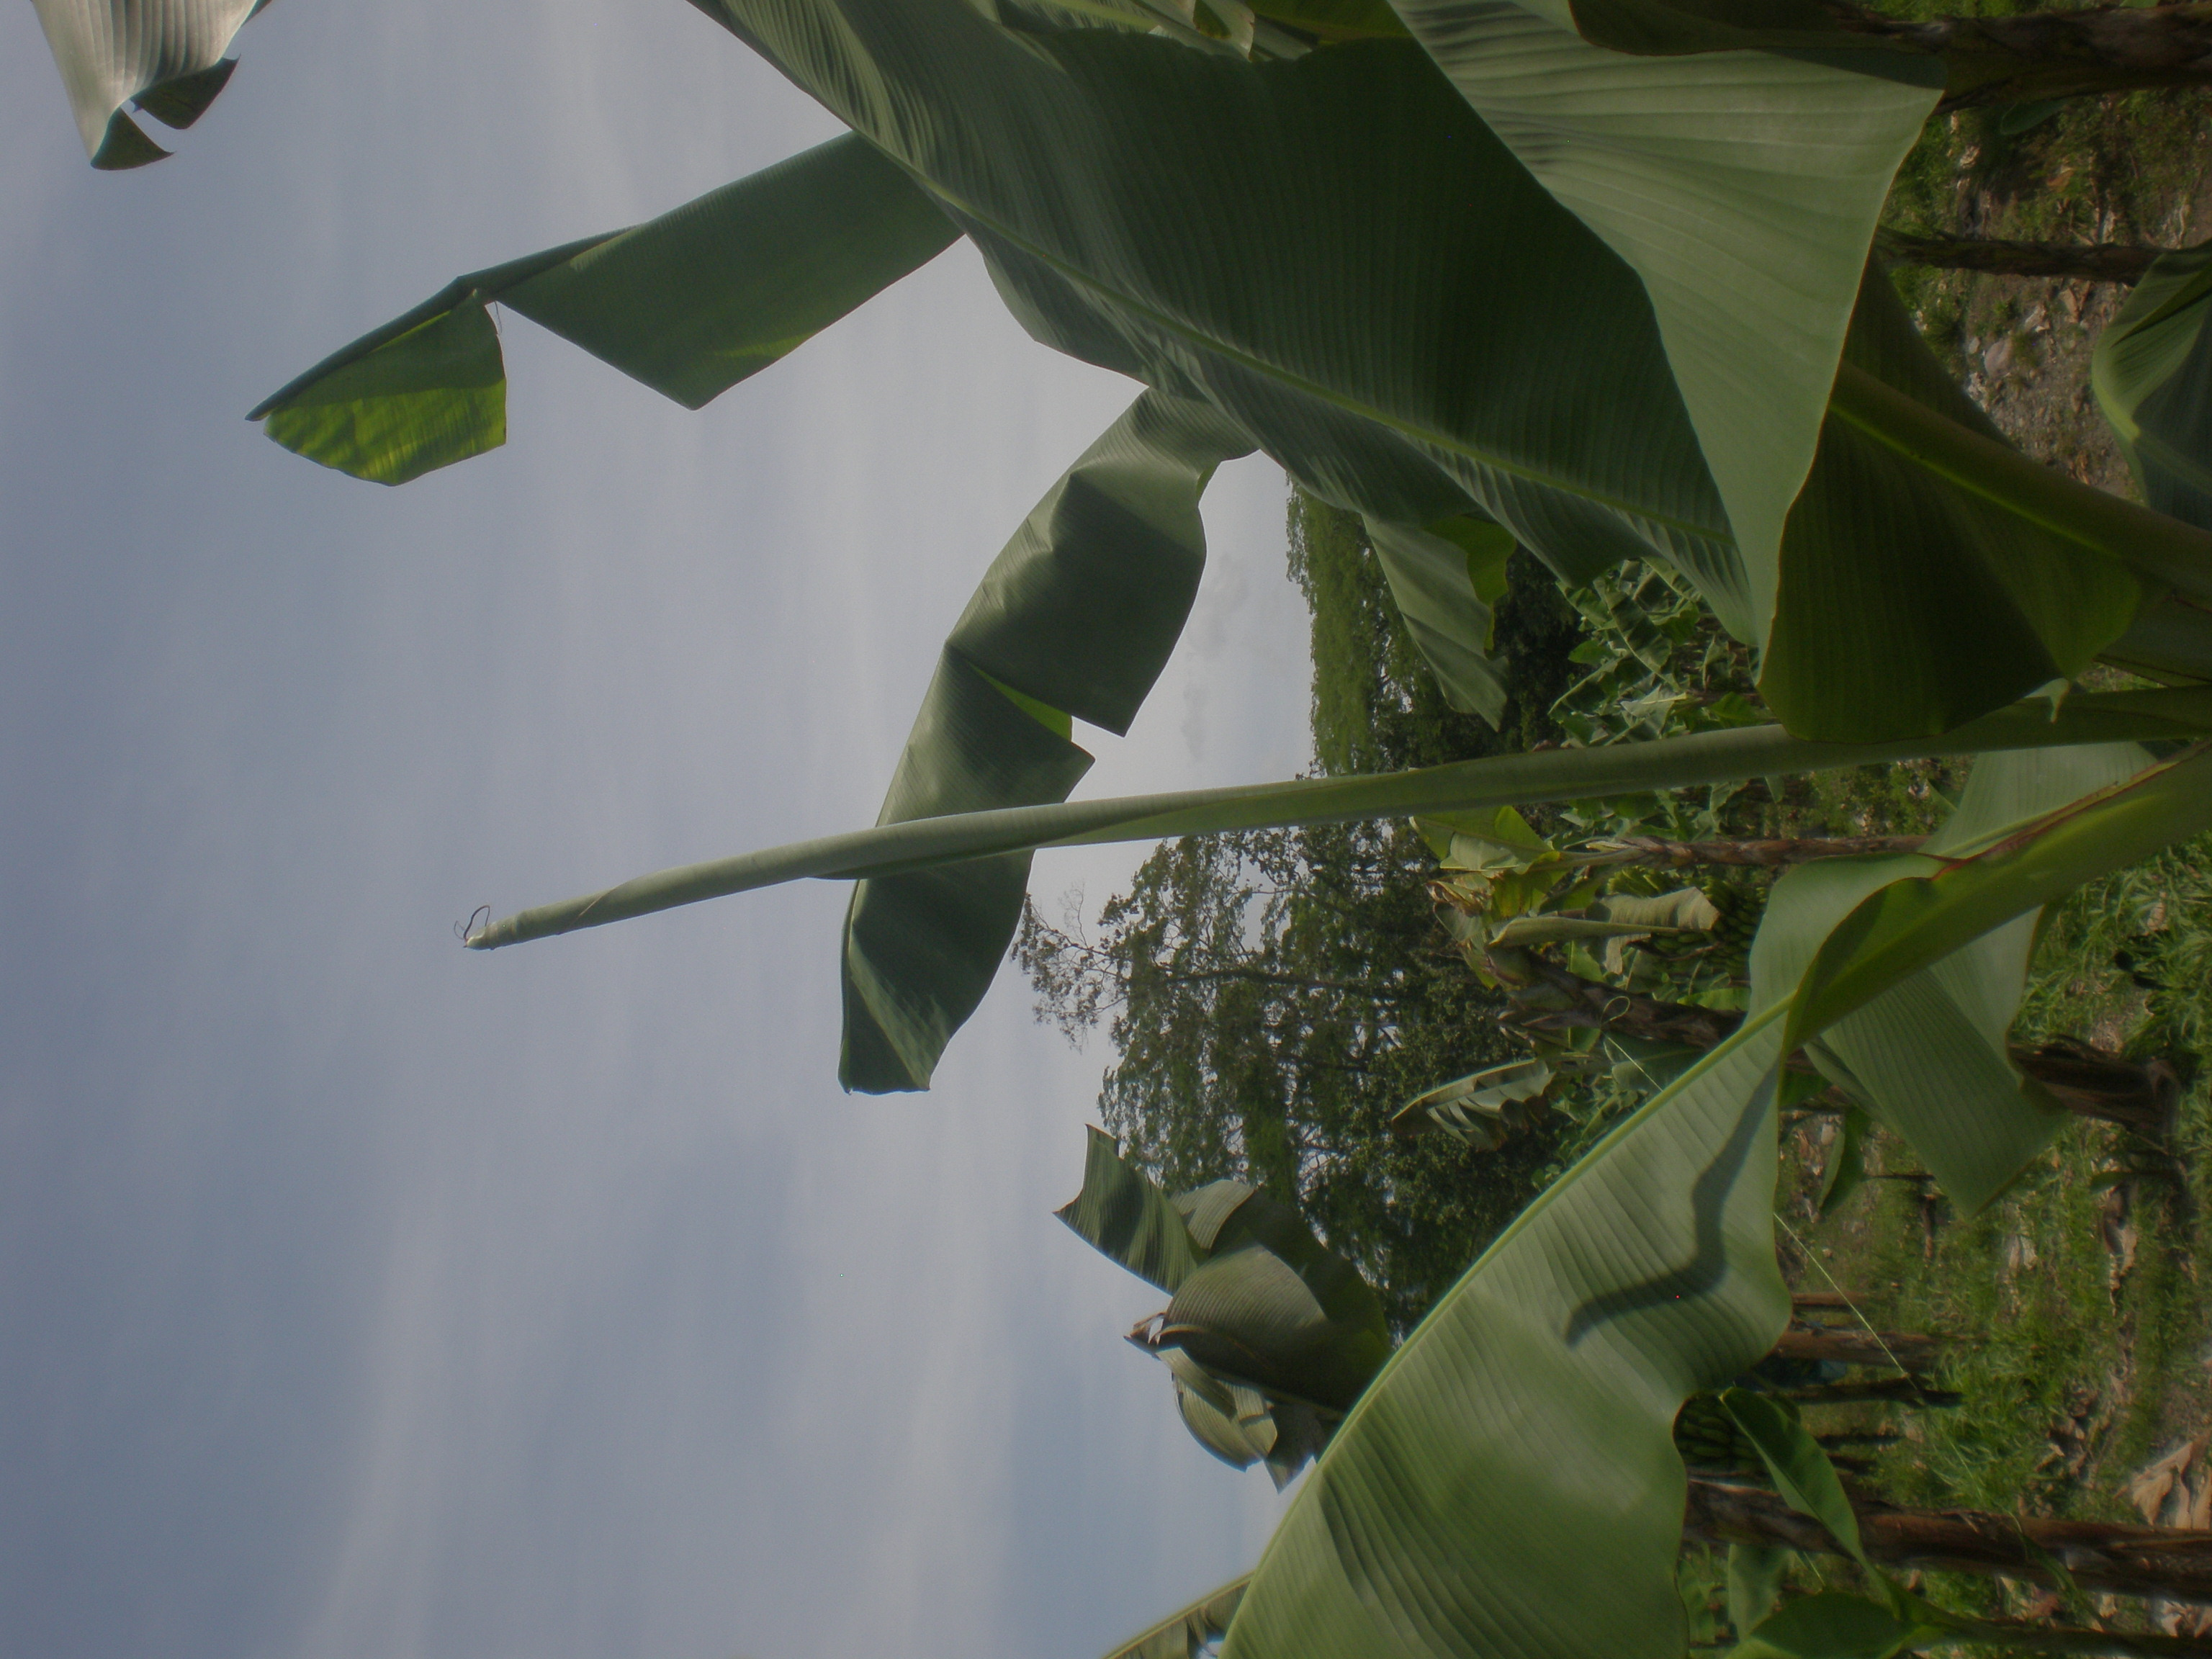candleleafs: (463, 721, 1777, 964)
